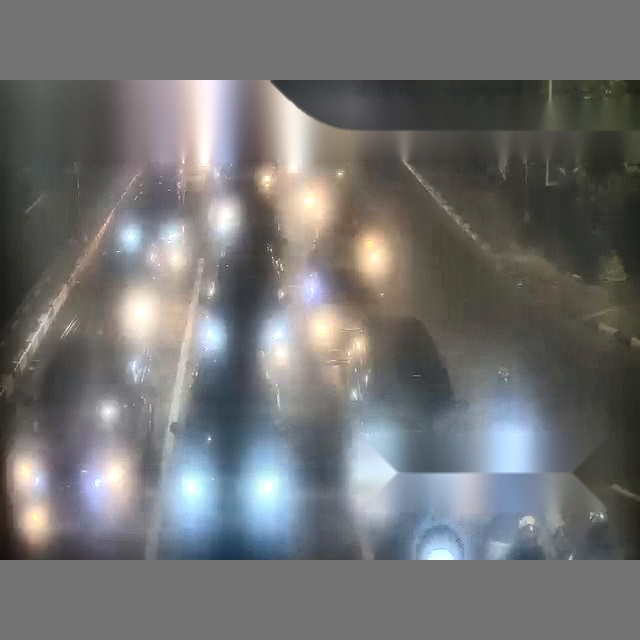Mobil: (150, 297, 306, 557)
Motor: (354, 227, 390, 299)
